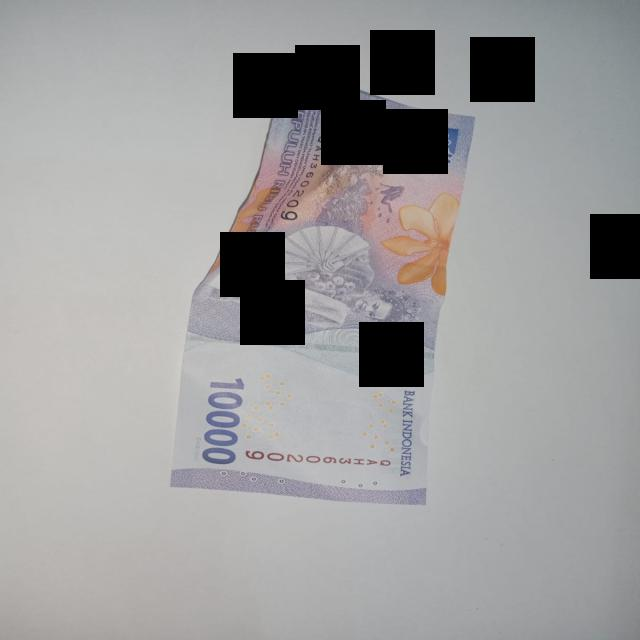sepuluhribu rupiah: (172, 68, 473, 504)
